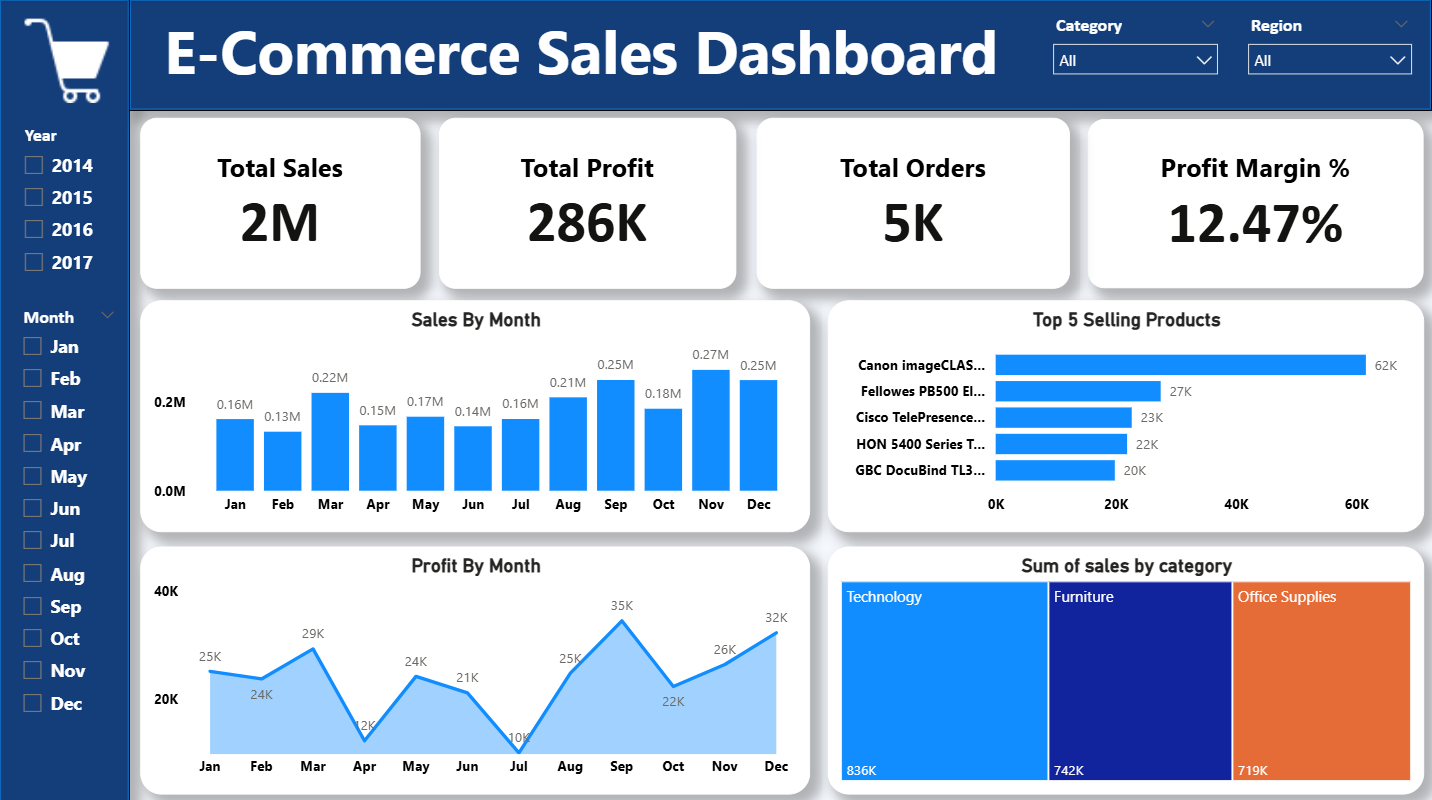

Layout of this report page (visuals, bound fields, positions):
{"tool":"powerbi","page":{"name":"Page 1","canvas":[1280,720],"ordinal":0},"visuals":[{"type":"shape","box":[0,0,117.1,720],"z":0},{"type":"image","box":[147.1,21.4,84.3,77.1],"z":1000},{"type":"shape","box":[115.7,0,1164.3,100],"z":2000},{"type":"slicer","fields":{"Values":["cleaned_dataset.Year"]},"box":[10,106.7,106.7,153.3],"z":3000},{"type":"textbox","box":[117.1,4.3,805.7,91.4],"z":4000},{"type":"slicer","fields":{"Values":["cleaned_dataset.Month"]},"box":[8.6,268.6,107.1,444.3],"z":5000},{"type":"slicer","fields":{"Values":["cleaned_dataset.category"]},"box":[931.4,8.6,167.9,90.7],"z":6000},{"type":"slicer","fields":{"Values":["cleaned_dataset.region"]},"box":[1105.7,8.6,166.4,90.7],"z":7000},{"type":"cardVisual","fields":{"Data":["cleaned_dataset.Total Sales"]},"box":[125.7,105.7,250,152.9],"z":8000},{"type":"cardVisual","fields":{"Data":["cleaned_dataset.Profit Margin %"]},"box":[972.9,107.1,300,151.4],"z":9000},{"type":"cardVisual","fields":{"Data":["cleaned_dataset.Total Orders"]},"box":[677.1,105.7,280,152.9],"z":10000},{"type":"cardVisual","fields":{"Data":["cleaned_dataset.Total Profit"]},"box":[392.9,105.7,265.7,152.9],"z":11000},{"type":"columnChart","title":"Sales By Month","fields":{"Y":["Sum(cleaned_dataset.sales)"],"Category":["cleaned_dataset.Month"]},"box":[125.7,268.6,598.6,207.1],"z":12000},{"type":"areaChart","title":"Profit By Month","fields":{"Category":["cleaned_dataset.Month"],"Y":["Sum(cleaned_dataset.profit)"]},"box":[125.7,488.6,598.6,221.4],"z":13000},{"type":"clusteredBarChart","title":"Top 5 Selling Products","fields":{"Category":["cleaned_dataset.product_name"],"Y":["Sum(cleaned_dataset.sales)"]},"box":[740,268.6,532.9,207.1],"z":14000},{"type":"treemap","fields":{"Group":["cleaned_dataset.category"],"Values":["Sum(cleaned_dataset.sales)"]},"box":[740,488.6,532.9,221.4],"z":15000},{"type":"image","box":[15.7,14.3,92.9,78.6],"z":16000}]}

Visuals, with their boxes in screenshot pixels (x1, y1, x2, y2), scaled from the page's 1280x720 canvas onto the 1432x800 screenshot:
shape: 0/0/131/799
image: 165/24/259/109
shape: 129/0/1431/111
slicer - cleaned_dataset.Year: 11/119/131/289
textbox: 131/5/1032/106
slicer - cleaned_dataset.Month: 10/298/129/792
slicer - cleaned_dataset.category: 1042/10/1230/110
slicer - cleaned_dataset.region: 1237/10/1423/110
cardVisual - cleaned_dataset.Total Sales: 141/117/420/287
cardVisual - cleaned_dataset.Profit Margin %: 1088/119/1424/287
cardVisual - cleaned_dataset.Total Orders: 758/117/1071/287
cardVisual - cleaned_dataset.Total Profit: 440/117/737/287
"Sales By Month" columnChart: 141/298/810/529
"Profit By Month" areaChart: 141/543/810/789
"Top 5 Selling Products" clusteredBarChart: 828/298/1424/529
treemap - cleaned_dataset.category x Sum(cleaned_dataset.sales): 828/543/1424/789
image: 18/16/121/103
